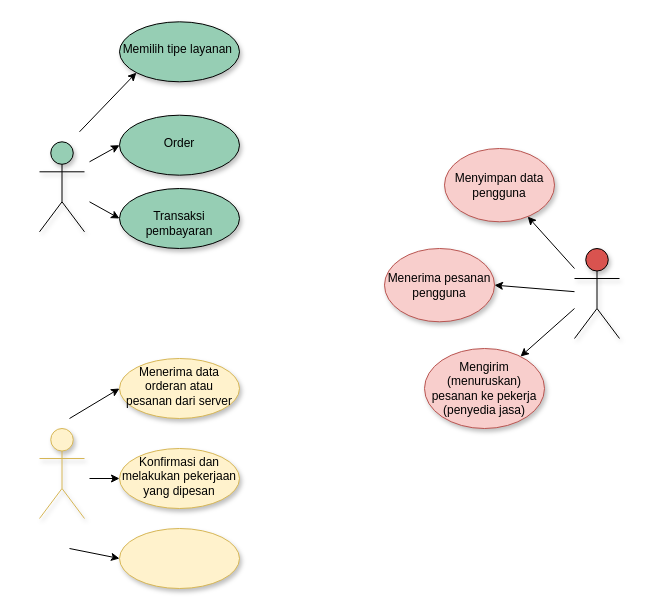
This 651x613 diagram has some shape labels left out. Each missing label, with the centre of its shape:
"Menerima pembayaran" goes at point (180, 560).
"Pengguna / User" goes at point (62, 188).
"Penyedia Jasa" goes at point (62, 475).
"Server/Admin" goes at point (598, 295).
